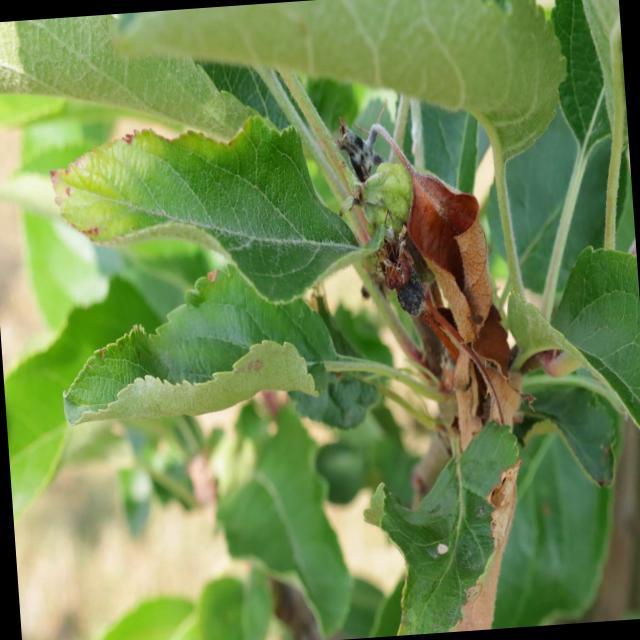-FireBlight-: (340, 112, 530, 432)
